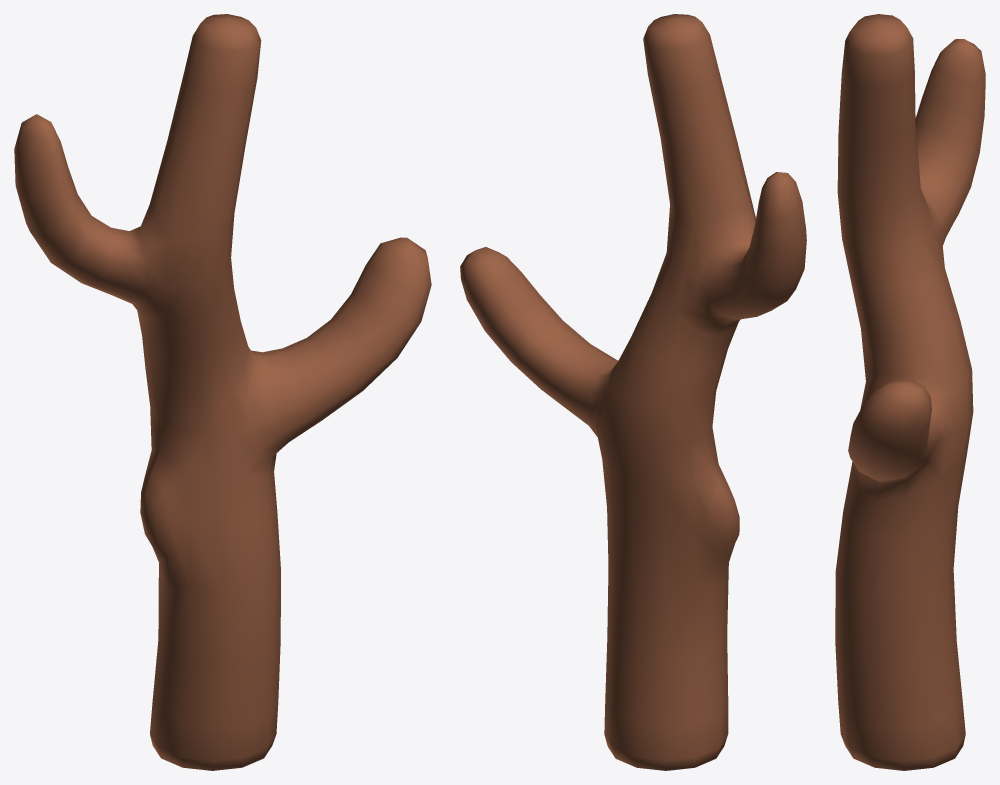
Rendered from Tree_Btm_D_02.fbx.
3 views of the same model, side by side, from view 1: azimuth 30°, elevation 25°; view 2: azimuth 150°, elevation 25°; view 3: azimuth 270°, elevation 25° (orthographic). The views are drawn at different scales.
Visible parts, largest first — view 1: Tree_Btm_D_02_LOD0; view 2: Tree_Btm_D_02_LOD0; view 3: Tree_Btm_D_02_LOD0.
Boxes of the visible parts, <box> form: Tree_Btm_D_02_LOD0: <box>14,14,431,770</box>; Tree_Btm_D_02_LOD0: <box>460,14,806,770</box>; Tree_Btm_D_02_LOD0: <box>835,14,985,770</box>.
Size of what is drawn, in the model's own units: 423 by 800 by 149.
